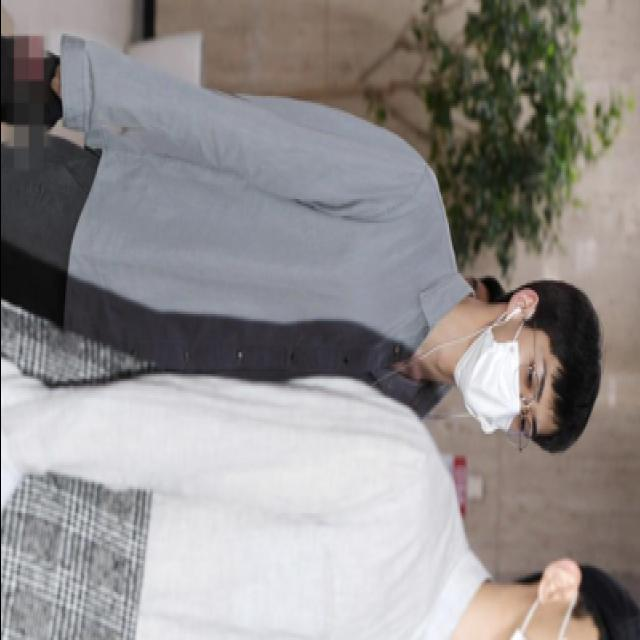mask: (451, 319, 552, 434)
